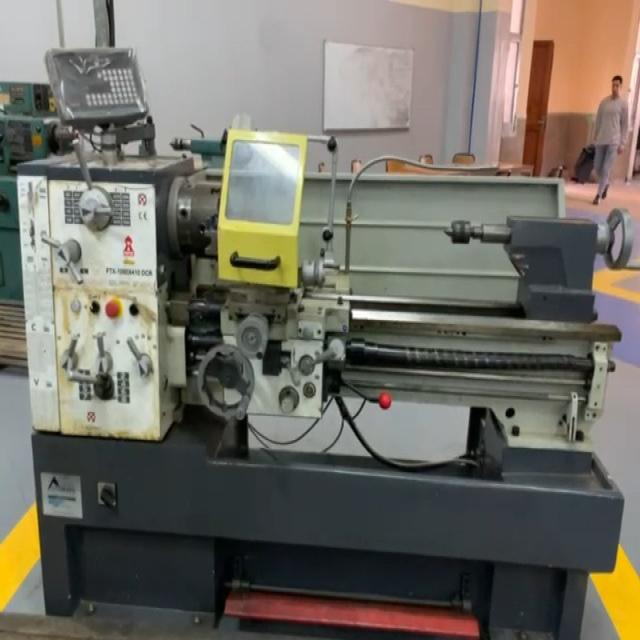tour parallele: (13, 47, 625, 640)
